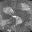people: (0, 16, 11, 30), (13, 16, 22, 28), (3, 7, 15, 16)
